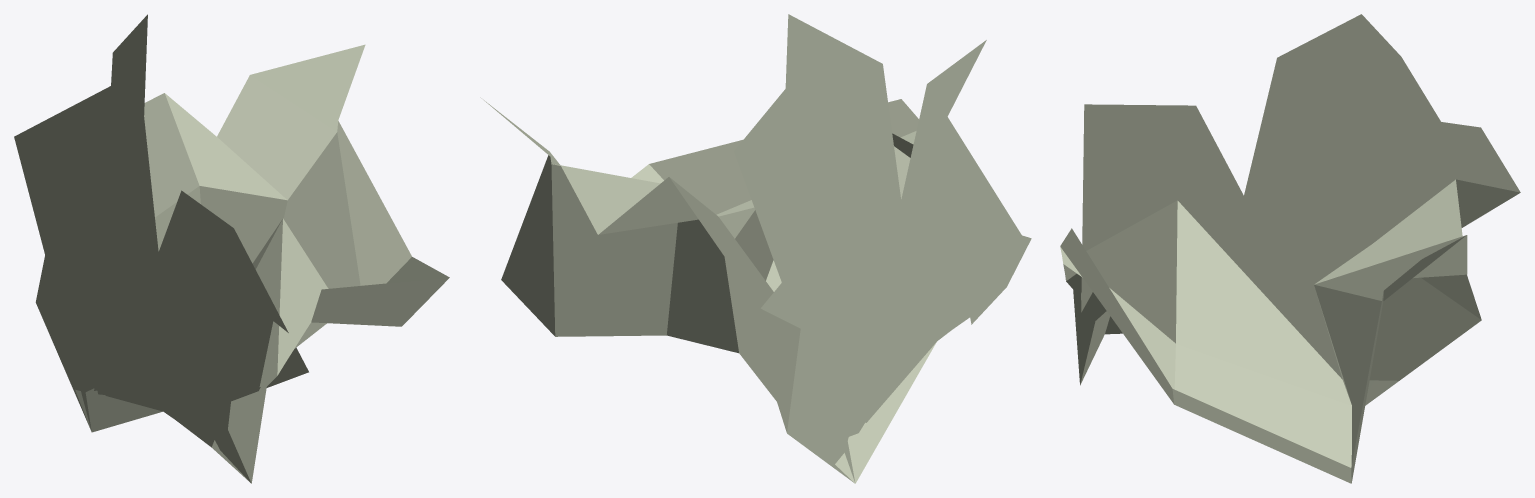
Rendered from paper ball.fbx.
3 renders of one model, left to right at view 1: azimuth 30°, elevation 25°; view 2: azimuth 150°, elevation 25°; view 3: azimuth 270°, elevation 25°, orthographic. The views are drawn at different scales.
Visible parts, largest first — view 1: Plane.002; view 2: Plane.002; view 3: Plane.002.
Boxes of the visible parts, x1,y1,x2,y2 form: Plane.002: [14, 14, 449, 483]; Plane.002: [480, 14, 1031, 483]; Plane.002: [1060, 14, 1520, 483].
Size of the model in its own units: 161 by 182 by 178.
